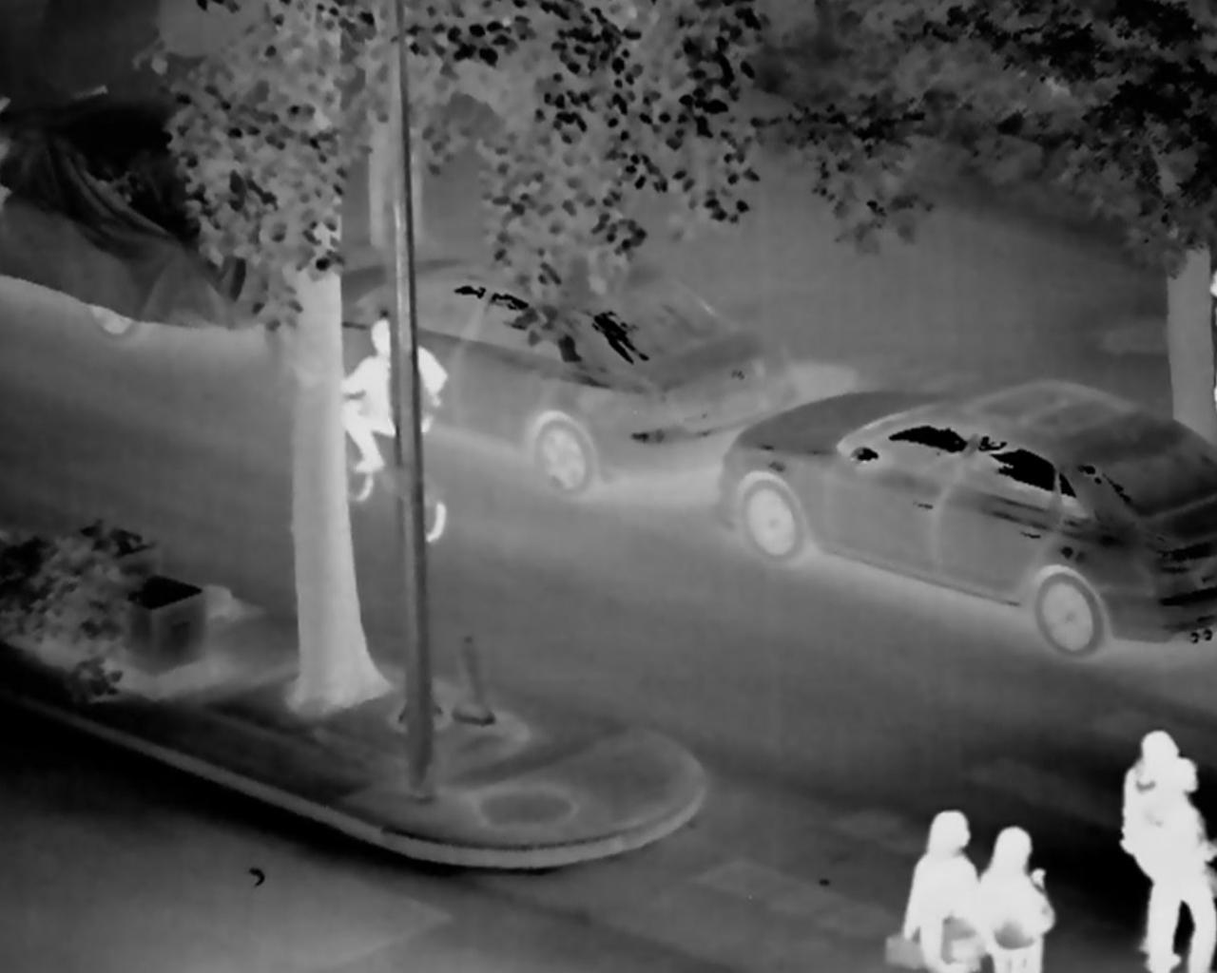person: (341, 316, 465, 529), (1112, 735, 1217, 973), (910, 810, 989, 973), (981, 822, 1053, 973)
